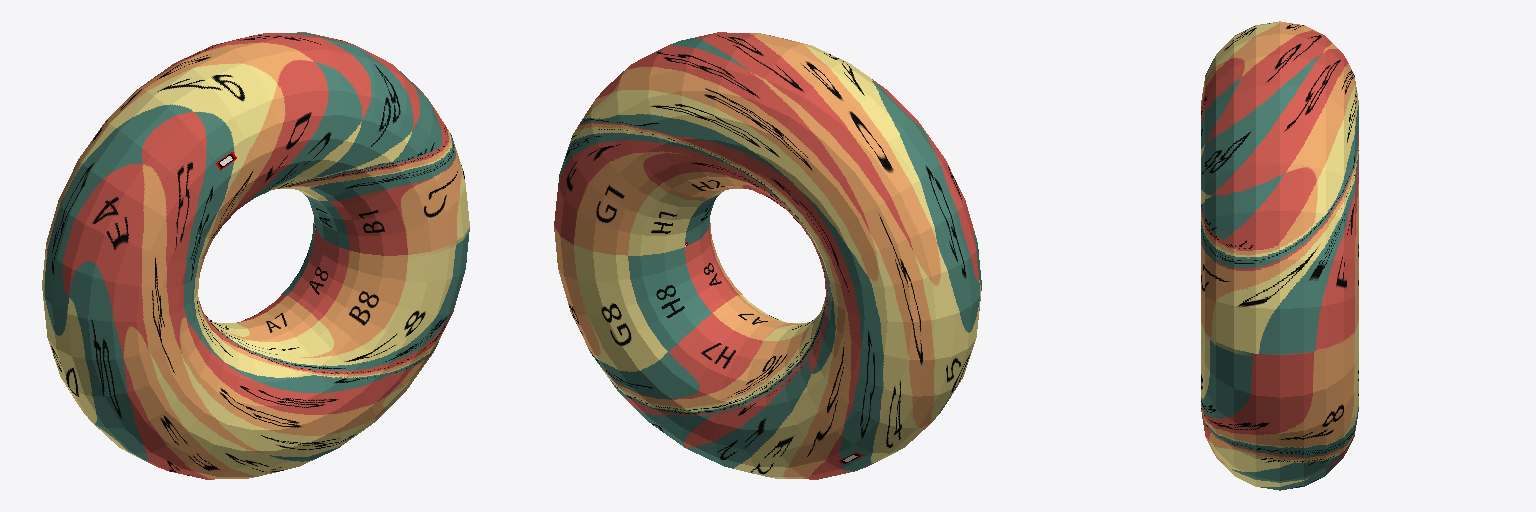
3 views of the same model, side by side, from view 1: azimuth 30°, elevation 25°; view 2: azimuth 150°, elevation 25°; view 3: azimuth 270°, elevation 25° (orthographic).
Bounding box in the file's own units: 3 × 2.98 × 1.
Materials: 1 (1 with a texture image).